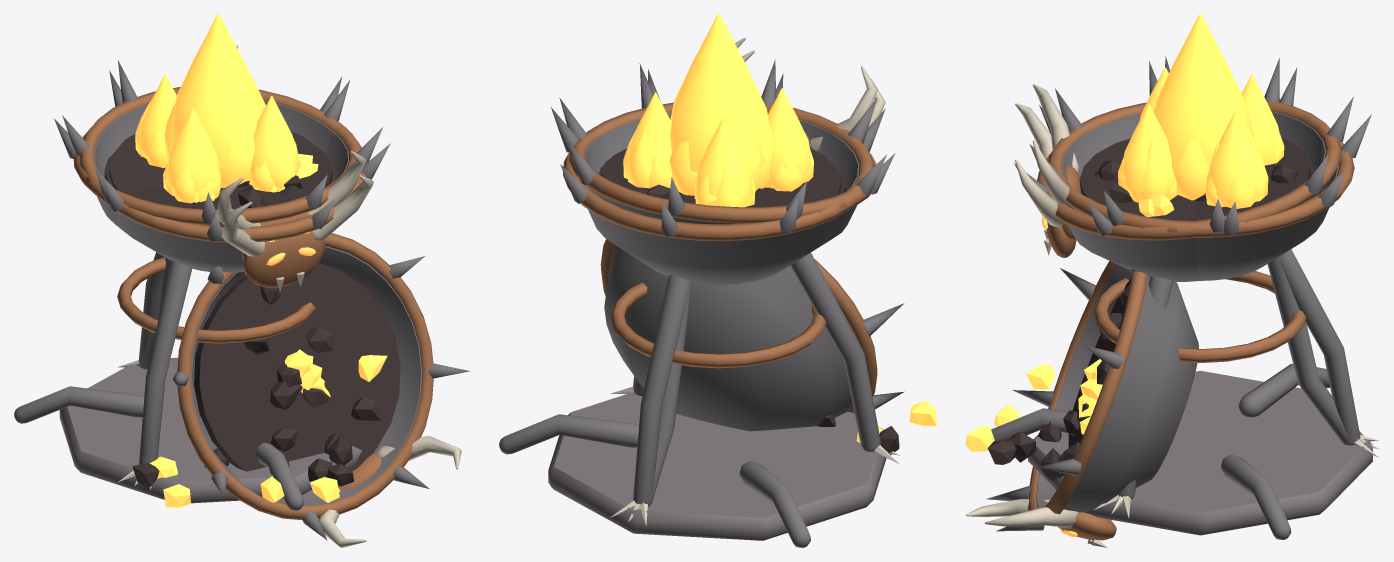
Rendered from gen_brazier.glb.
The picture shows the model from 3 angles, left to right: view 1: azimuth 30°, elevation 25°; view 2: azimuth 150°, elevation 25°; view 3: azimuth 270°, elevation 25°; orthographic projection. The views are drawn at different scales.
Parts seen in each view (by area): view 1: state_2, state_0, state_1; view 2: state_0, state_2, state_1; view 3: state_0, state_2, state_1.
Part boxes in pixels (x1,y1,x2,y2): state_2: (14,233,470,547); state_0: (54,14,382,503); state_1: (62,45,390,369); state_0: (548,14,899,540); state_2: (499,239,936,547); state_1: (559,50,895,506); state_0: (1028,14,1378,535); state_2: (965,261,1330,547); state_1: (1014,58,1360,445).
Bounding box in the file's own units: 0.9347 × 1.31 × 0.9948.
